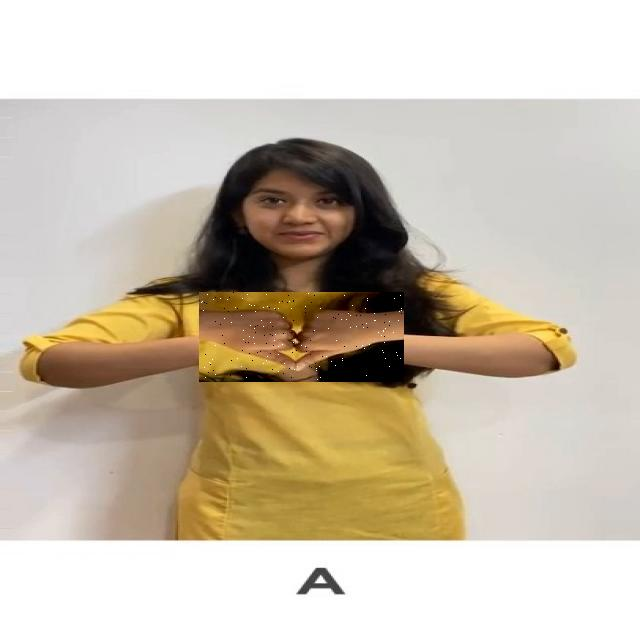A: (199, 292, 404, 382)
